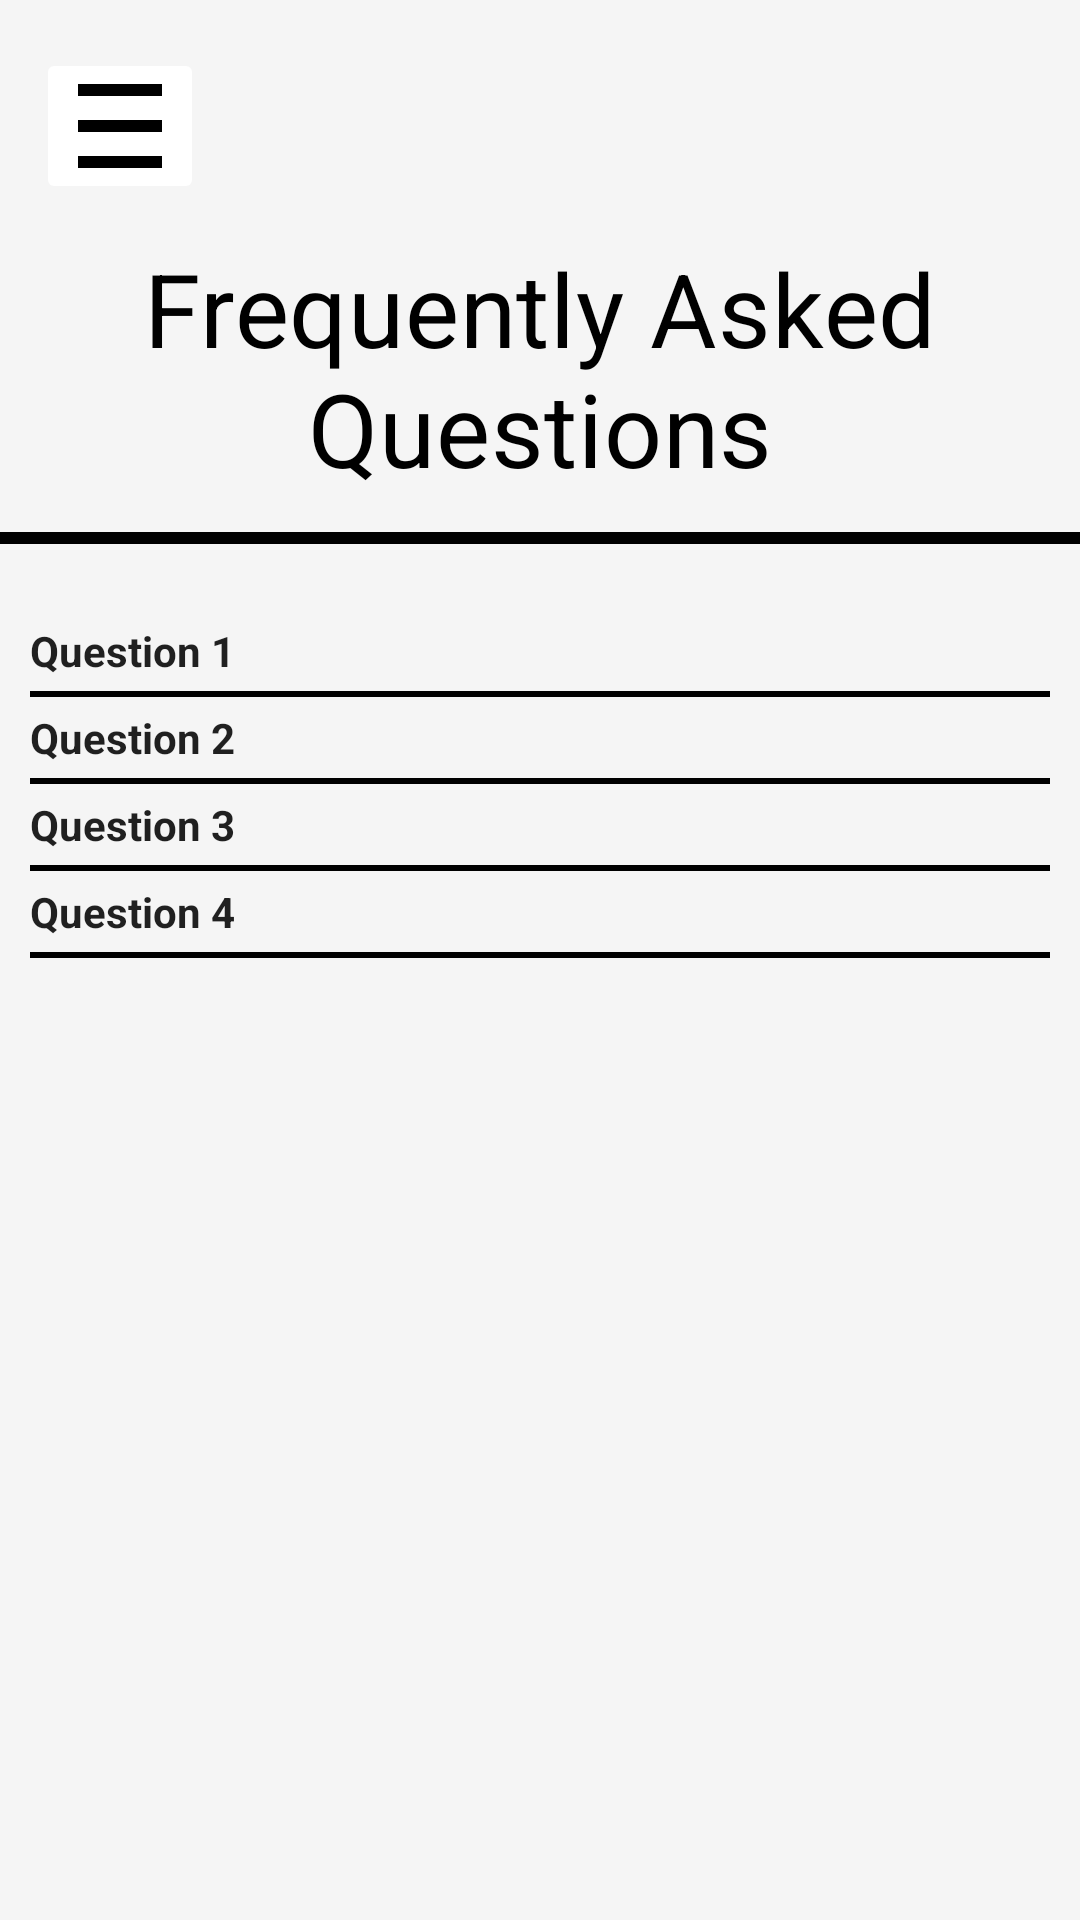

Icons on this 1080px×1920px Android screen, each with the point to tap as [x,y]:
hamburger: [120,126]
